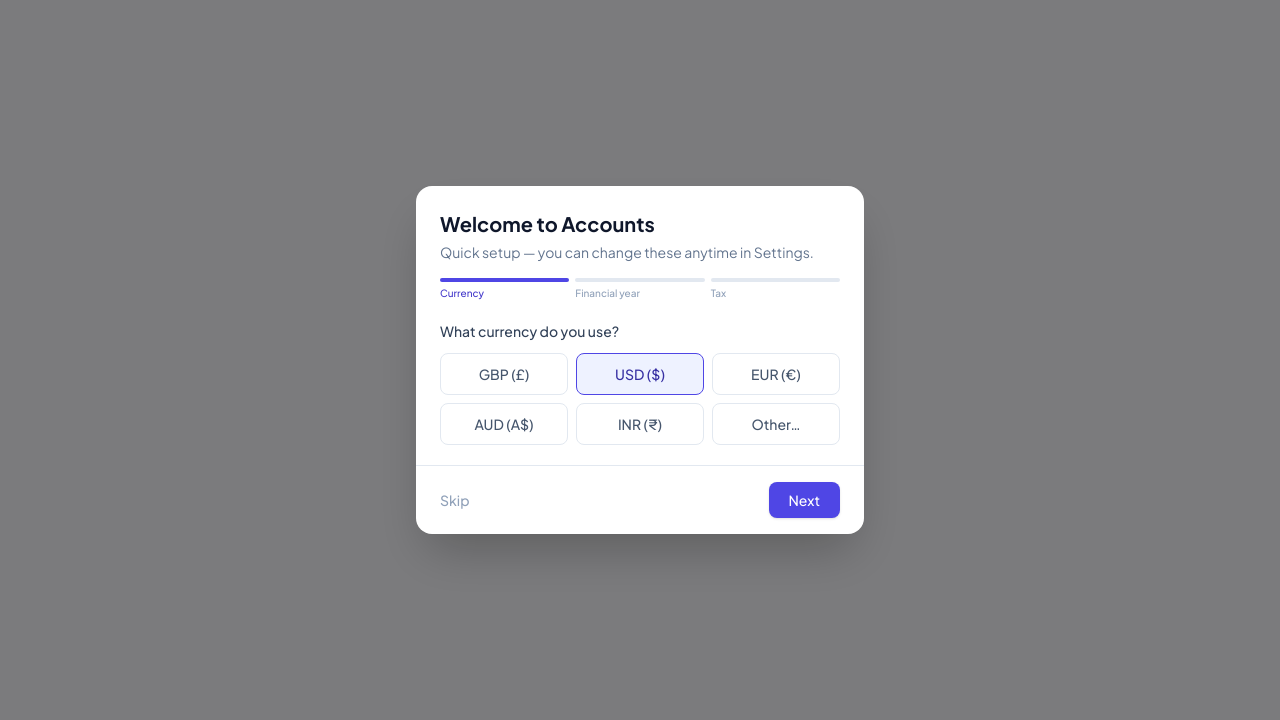
Scenario: SetupWizard › Next button advances to step 1 (financial year)
Click the button "Next".
click(804, 500)  # box [768,482,840,518]
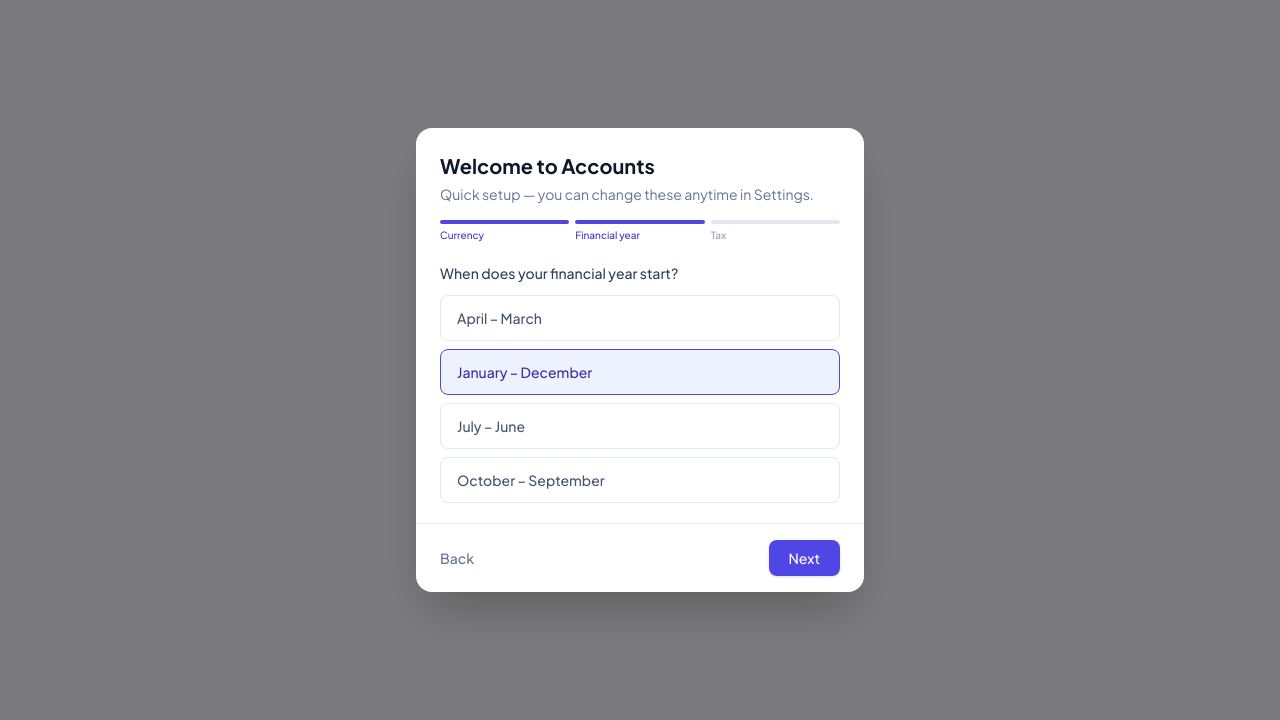
Check: the text "When does your financial year start?" is shown, box [440,264,678,282]
